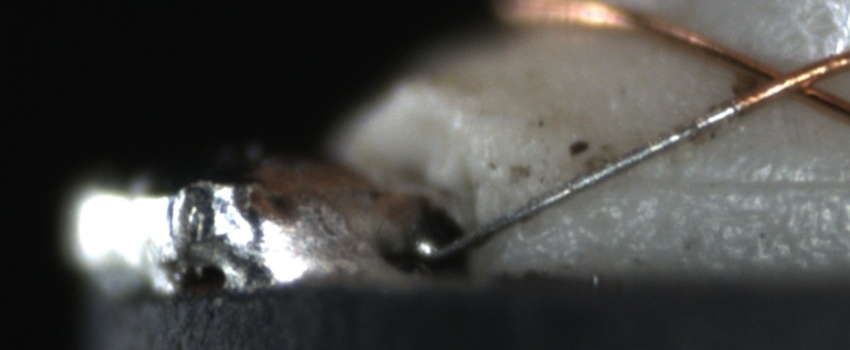CL: (739, 49, 837, 107)
DL: (617, 153, 850, 217)
TS: (431, 100, 743, 267)
